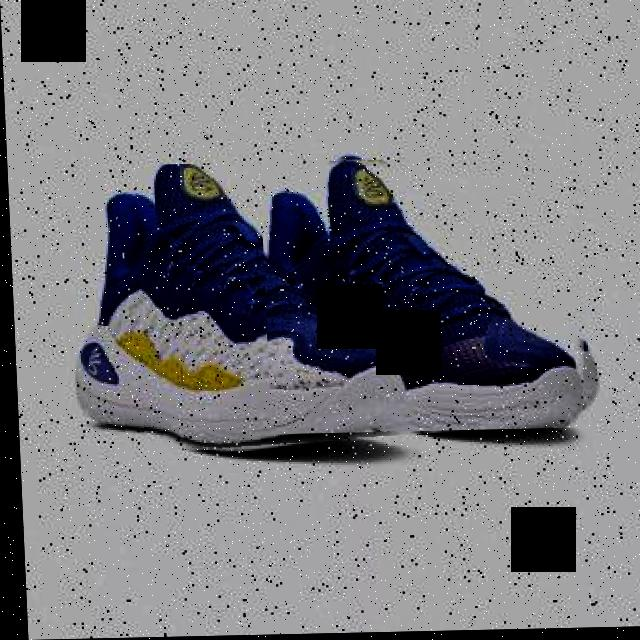shoe: (65, 161, 419, 459), (258, 152, 595, 436)
